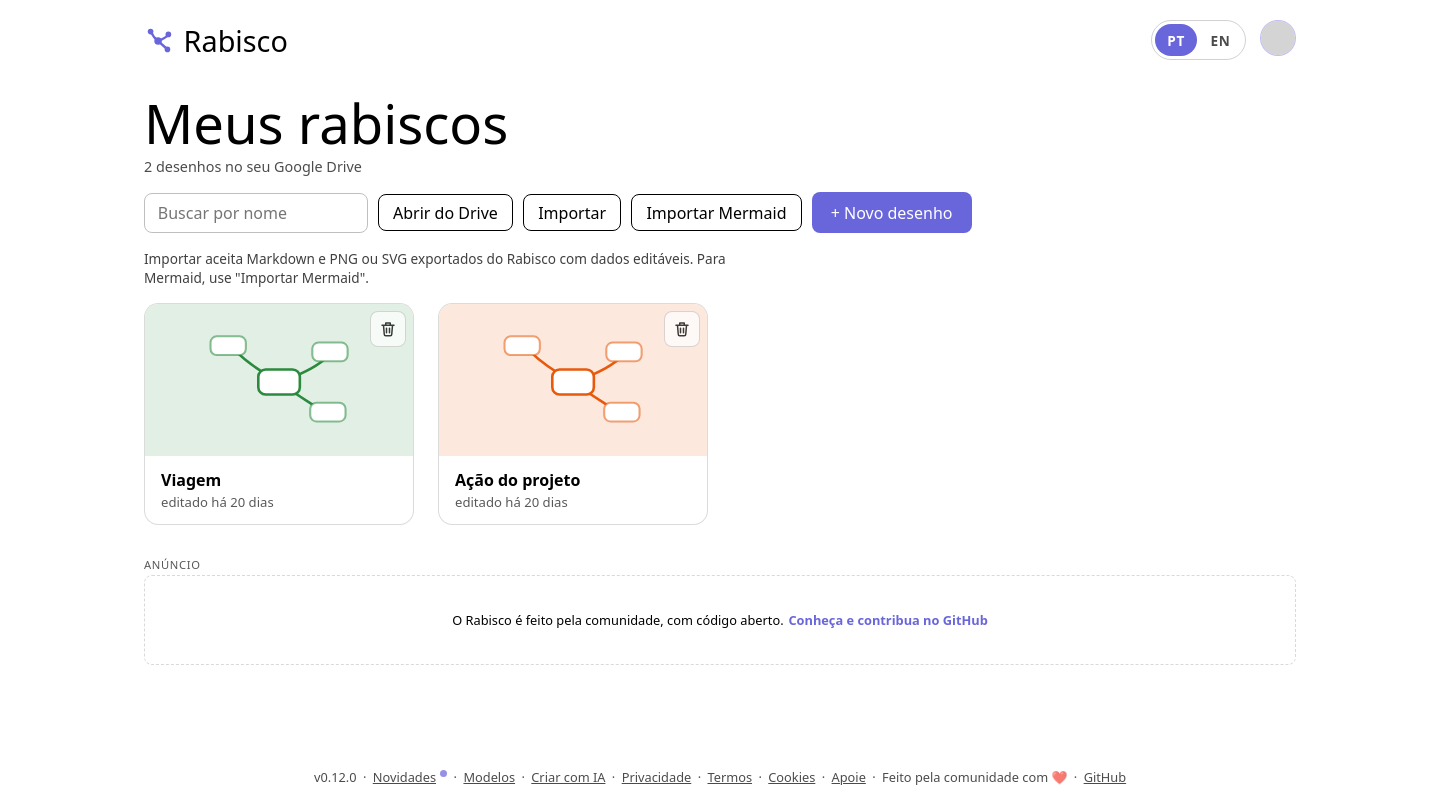
Scenario: filters by name, ignoring case and accents, and says when nothing matches
Step 1. Type "ACAO" into the search field labelled "Buscar por nome" → (256, 213), box [144,193,368,233]
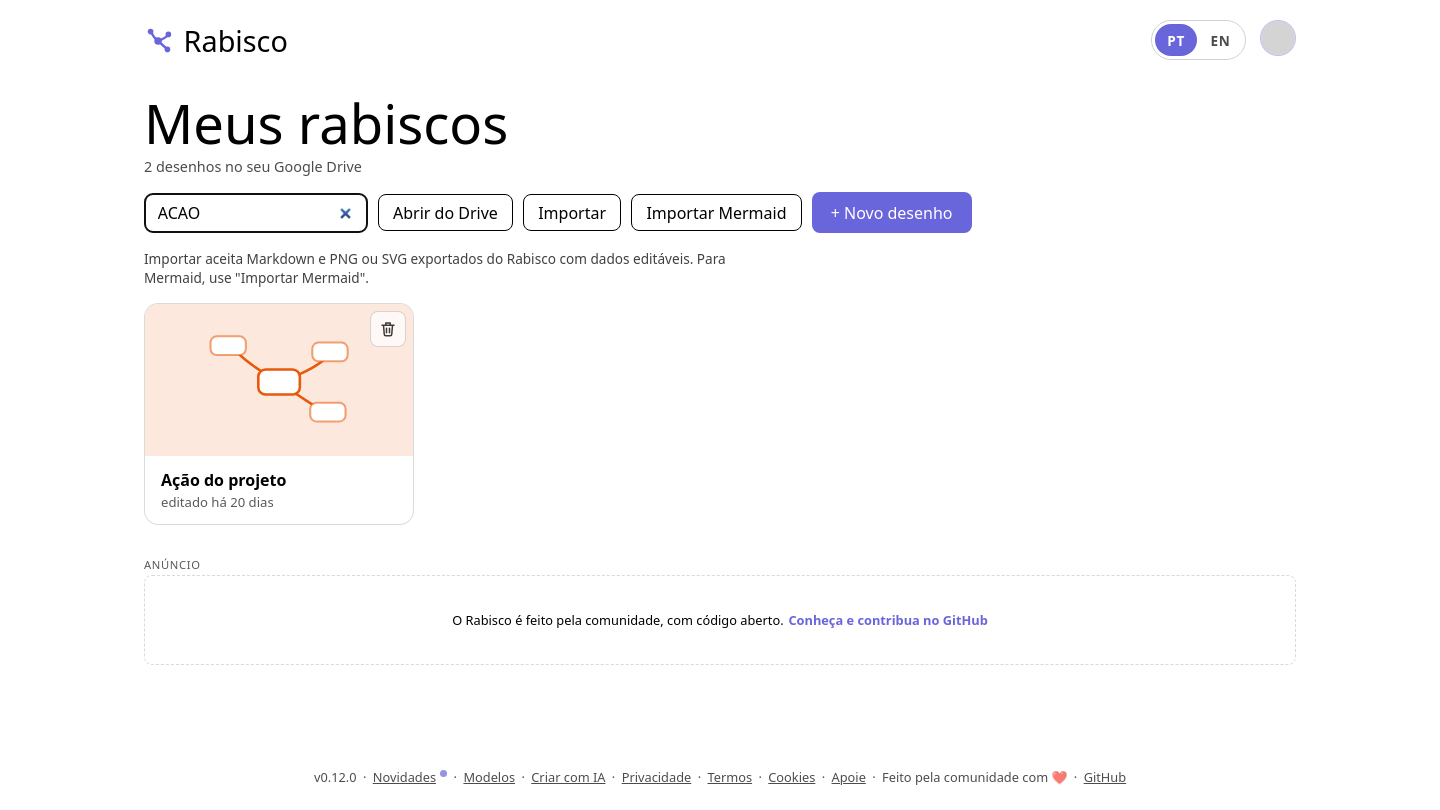
Expected: the link "Ação do projeto editado há 20 dias" is shown, [144,303,414,525]
Step 2. Replace the text in the search field named "Buscar por nome" with "zzz" → (256, 213), box [144,193,368,233]
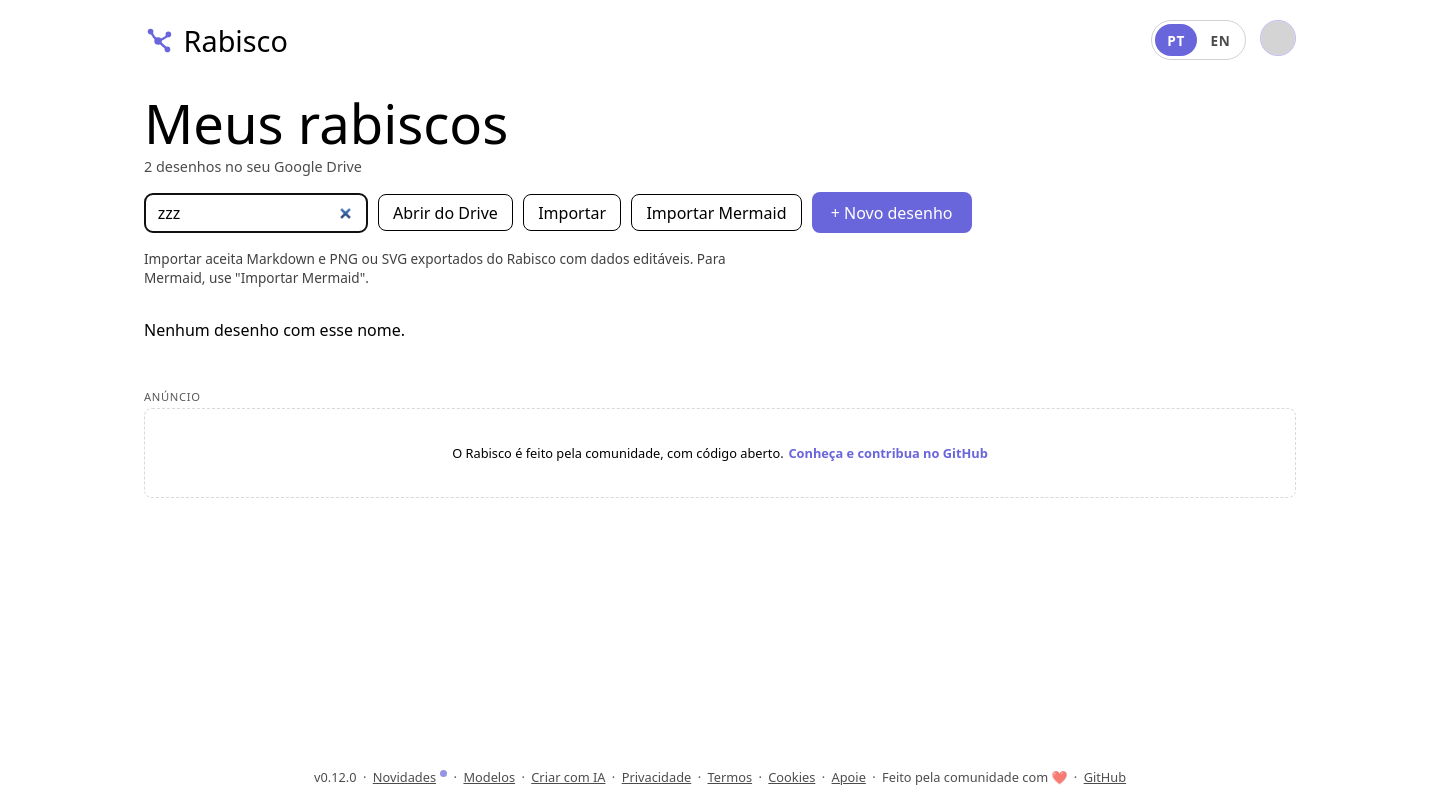
Expected: the text "Nenhum desenho com esse nome." is shown, [144,319,405,341]
